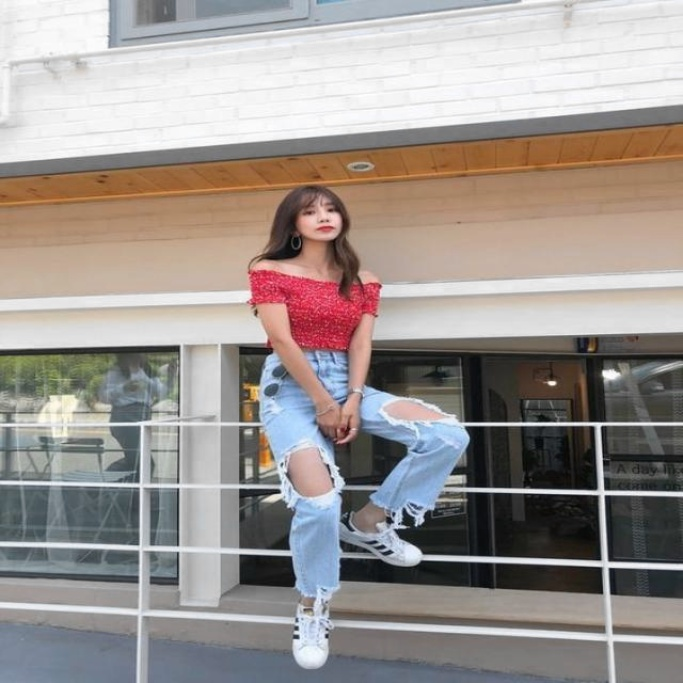Sleeveless: (254, 257, 283, 271), (358, 270, 380, 284)
ripped_pants: (255, 351, 474, 597)
